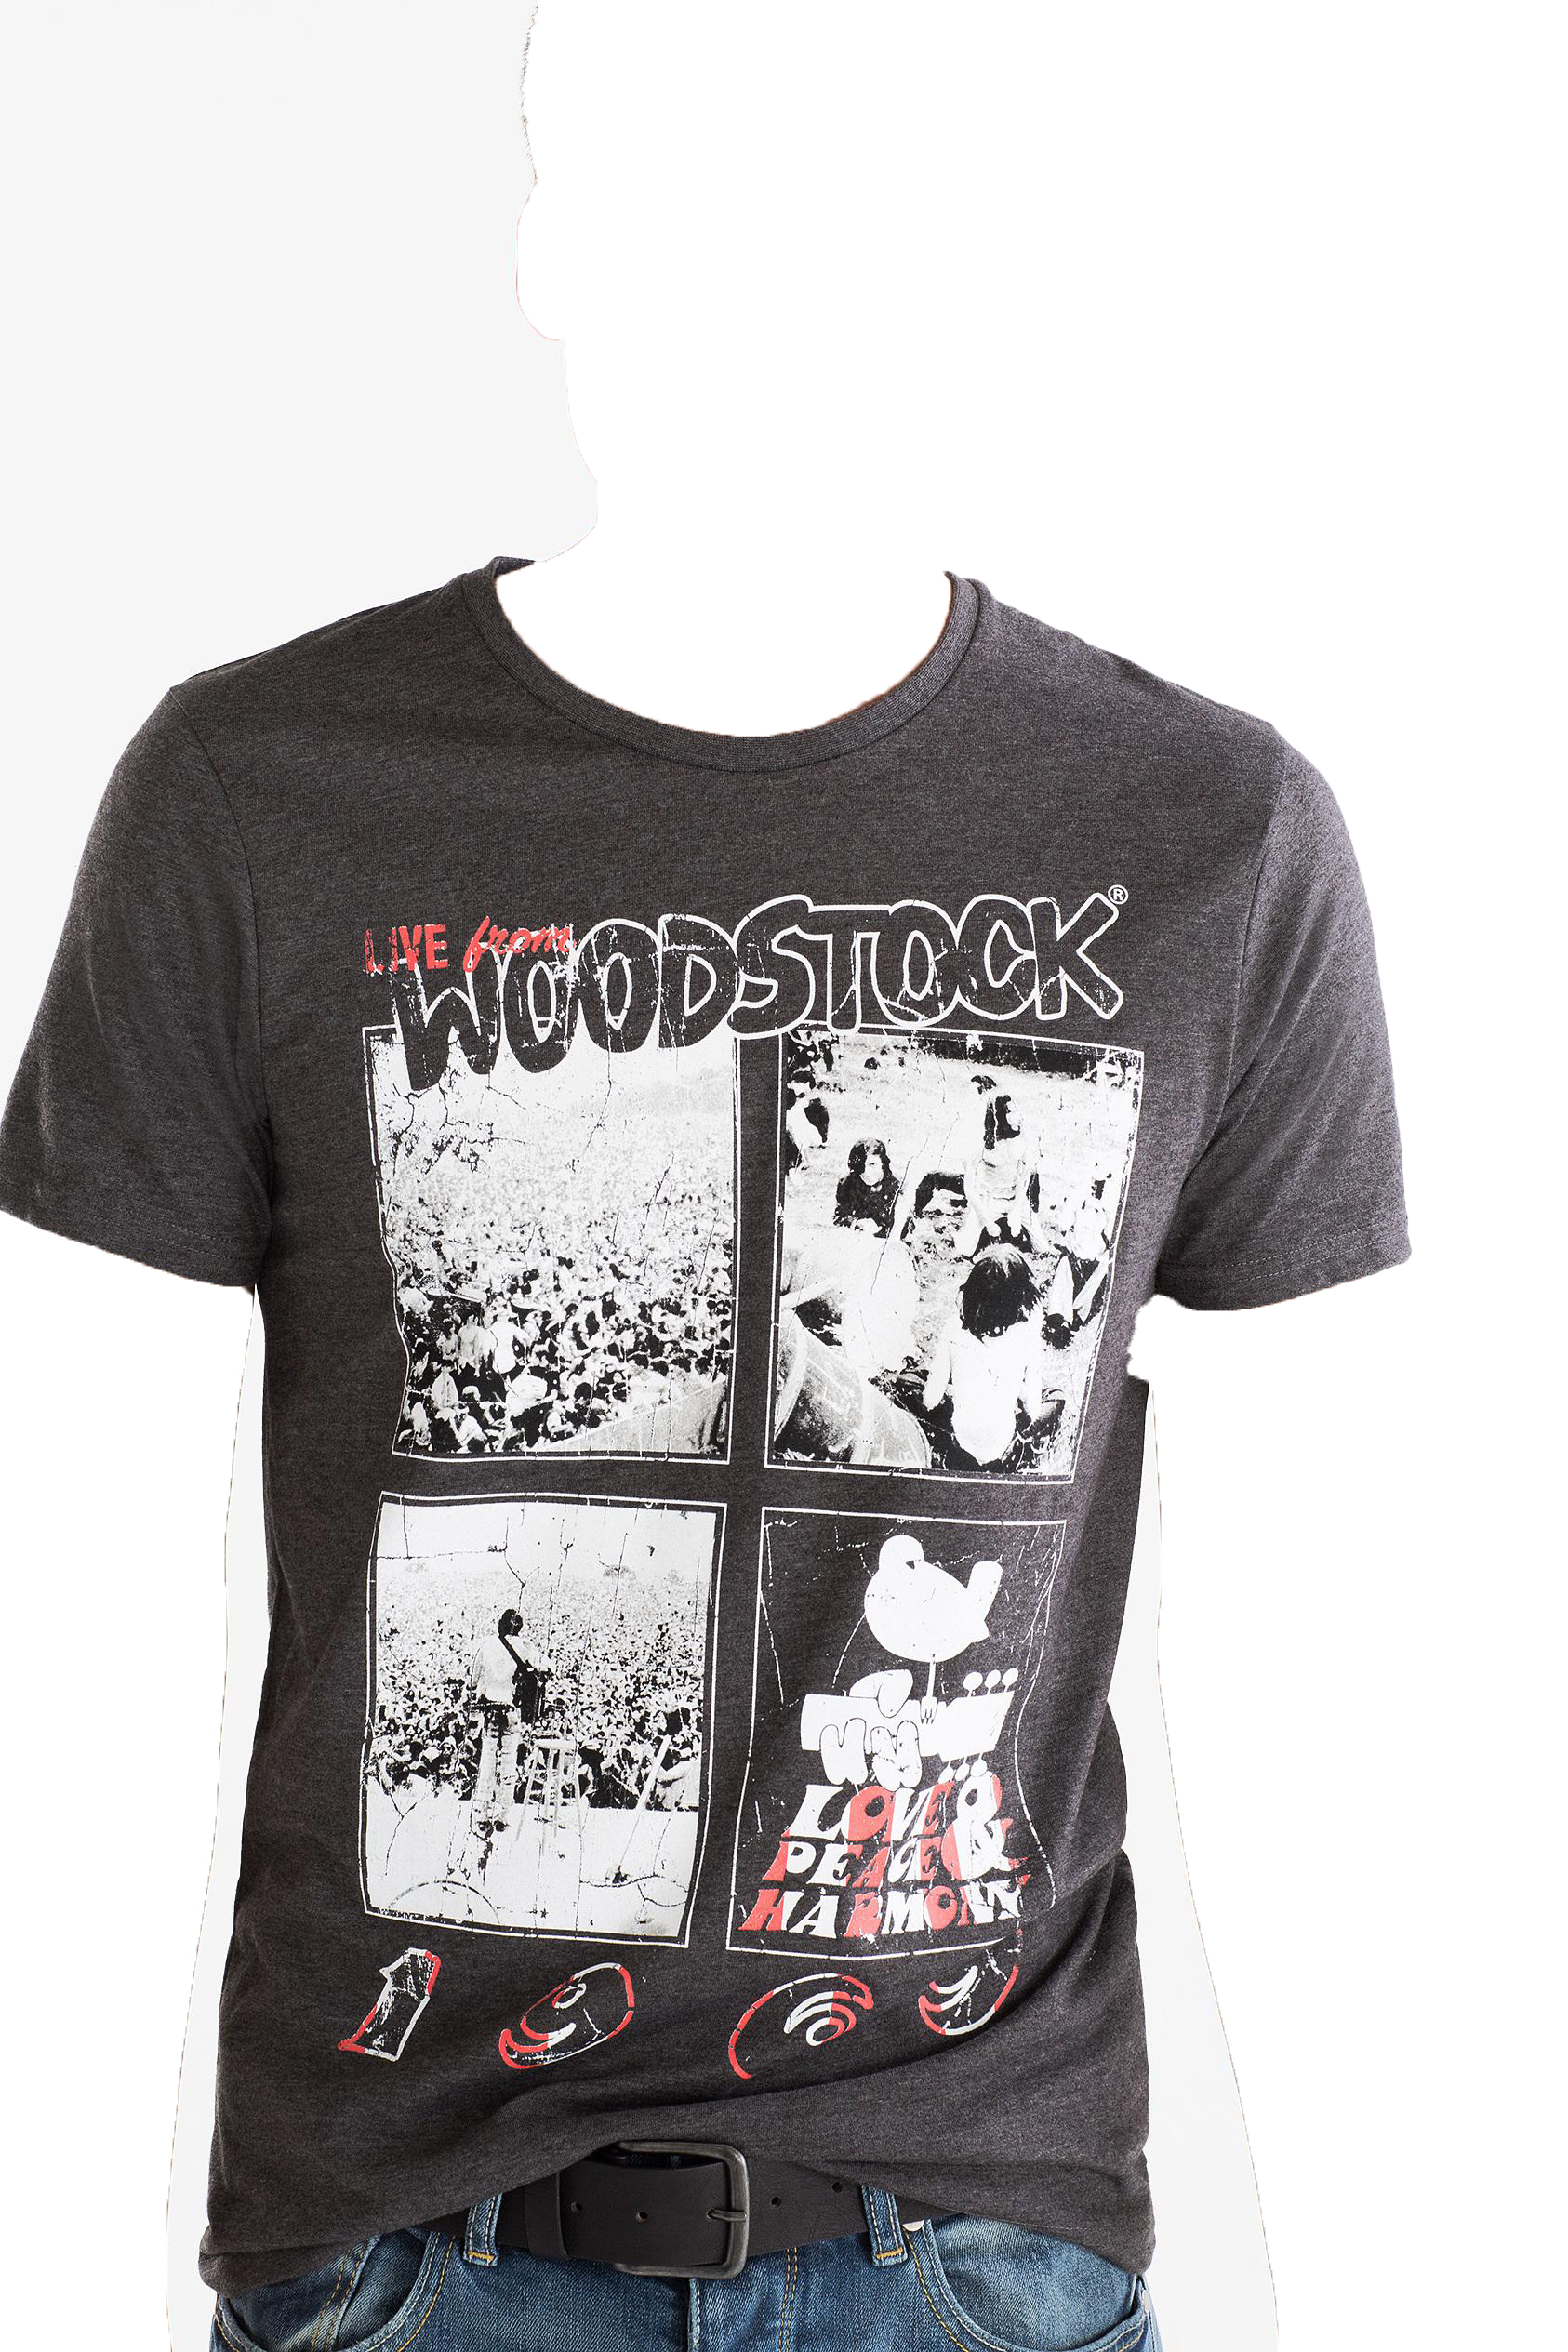teeshirt: (12, 546, 1447, 2231)
